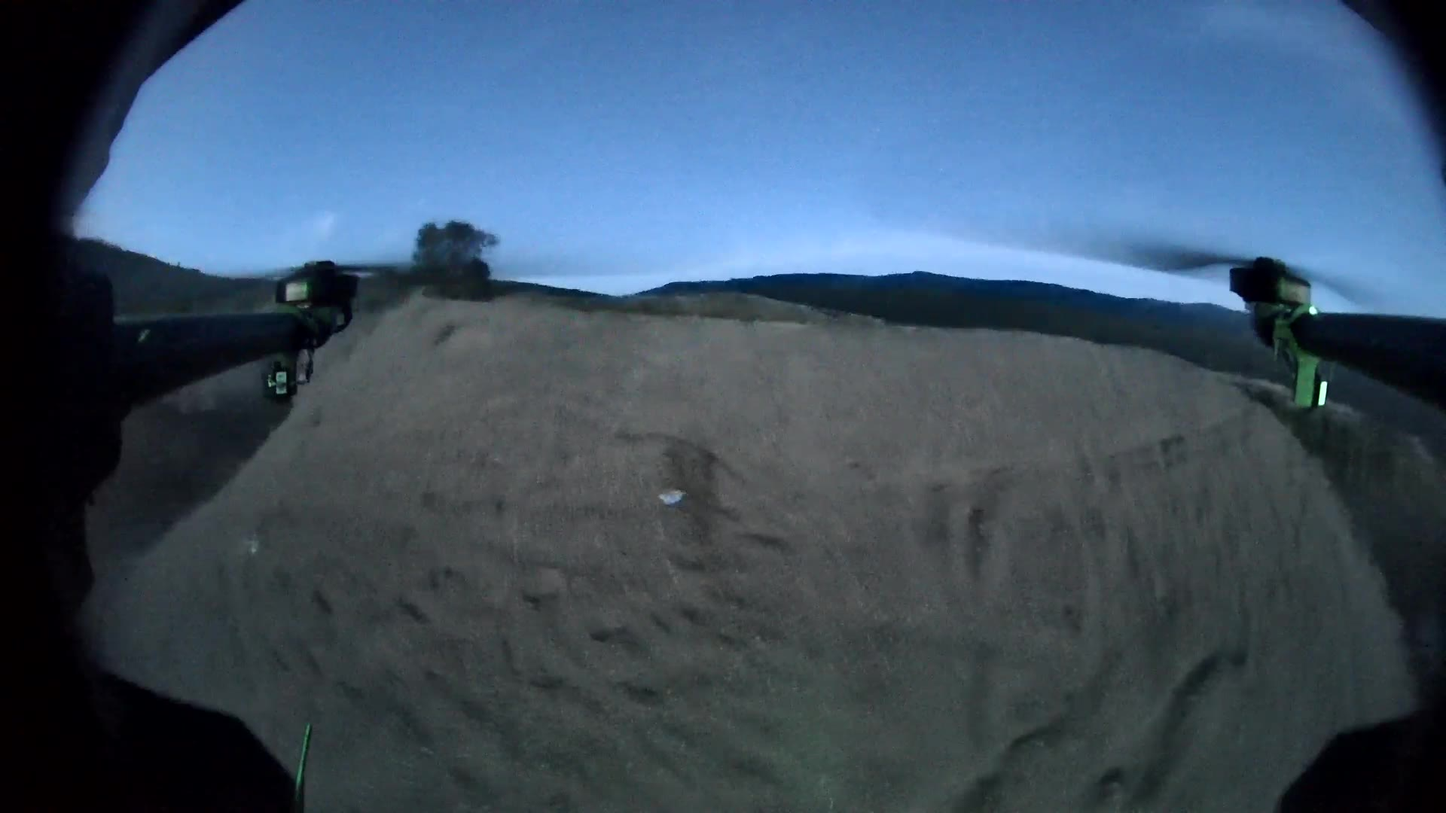Target: (657, 486, 685, 505)
